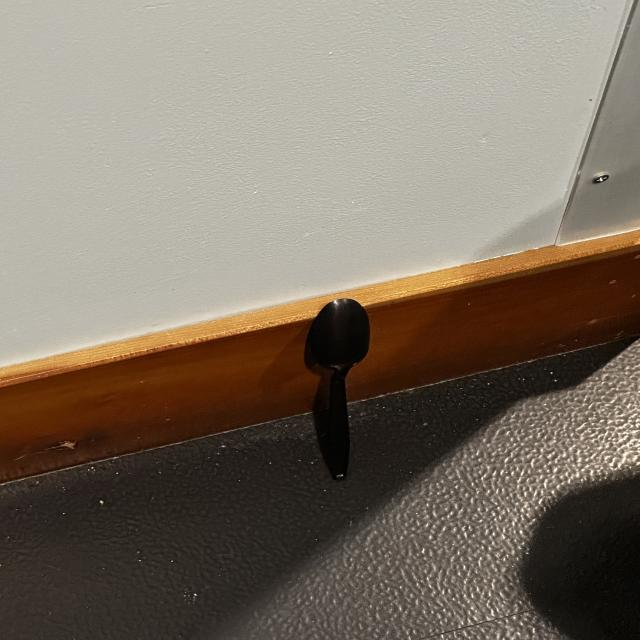spoon: (254, 275, 439, 537)
